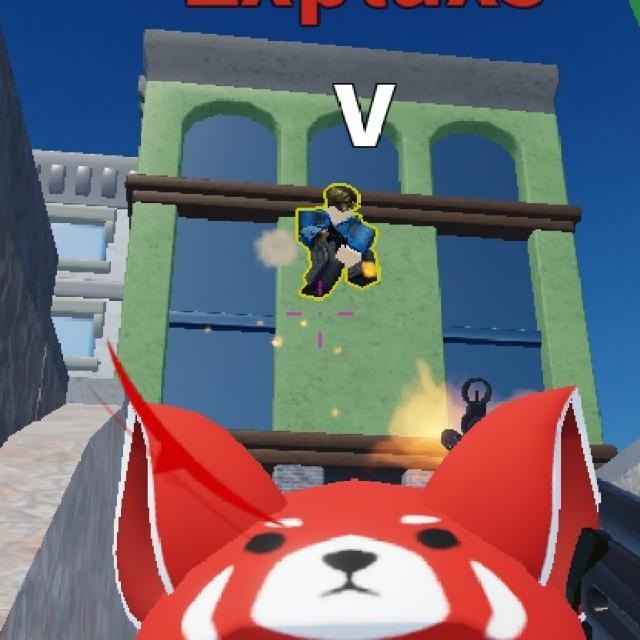player: (293, 173, 381, 315)
